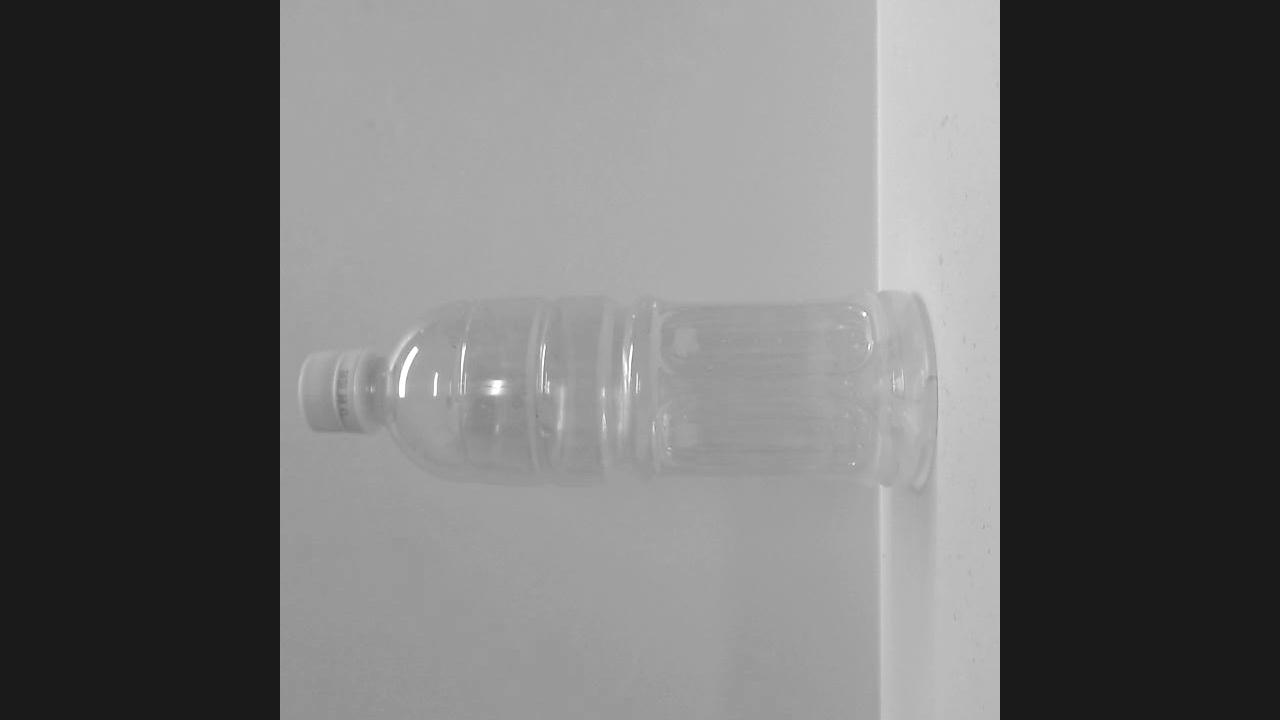bottle: (298, 288, 949, 492)
